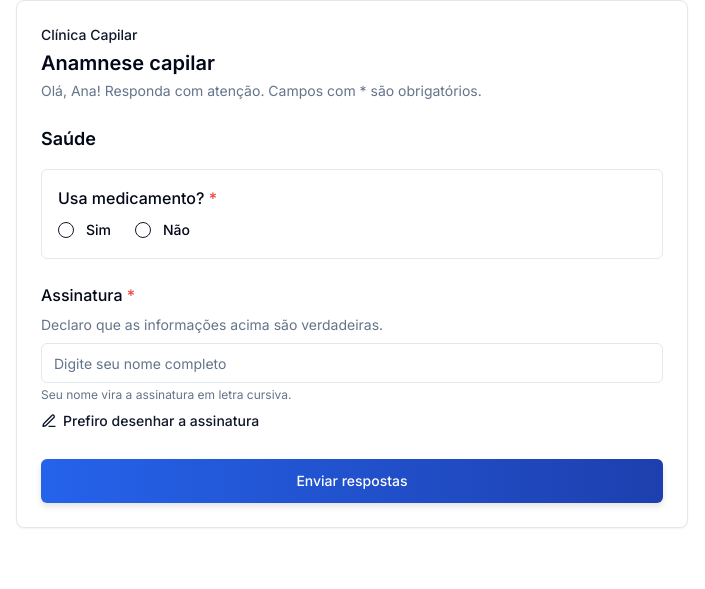
PublicPatientForm › exige resposta obrigatória e assinatura antes de enviar
Expected: the heading "Anamnese capilar" is shown, [41,51,215,75]
Expected: the text "Clínica Capilar" is shown, [41,26,138,43]
Click the button "Enviar respostas": coordinates (352, 481) [41,459,663,503]
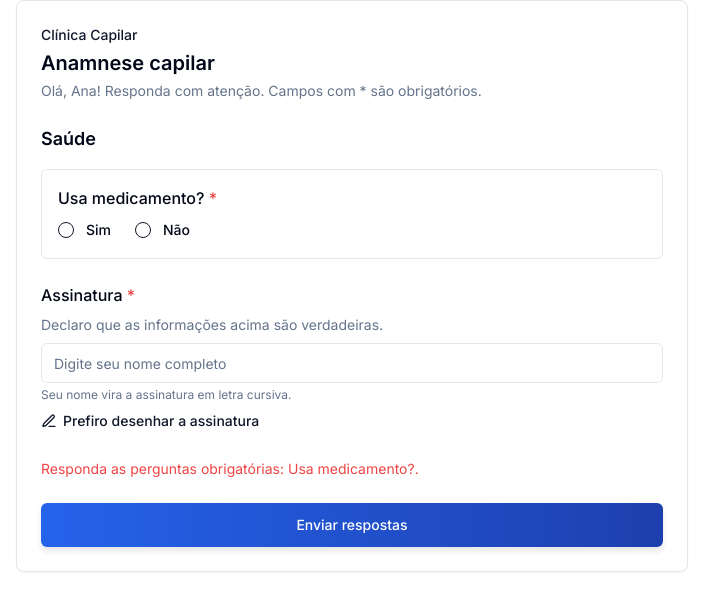
Expected: the text "Responda as perguntas obrigatórias: Usa medicamento?." is shown, [41,460,419,477]
Click the radio button named "Sim" next to "Sim": coordinates (66, 230) [58,222,74,238]
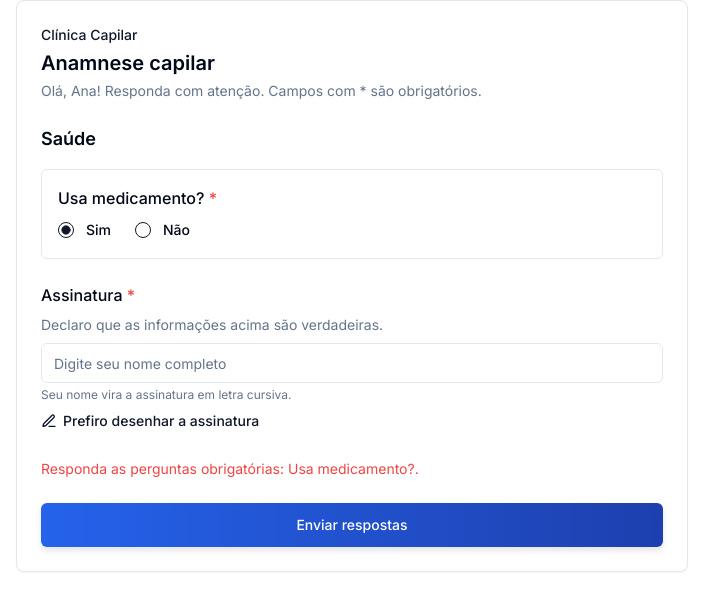
Click the button "Enviar respostas": coordinates (352, 525) [41,503,663,547]
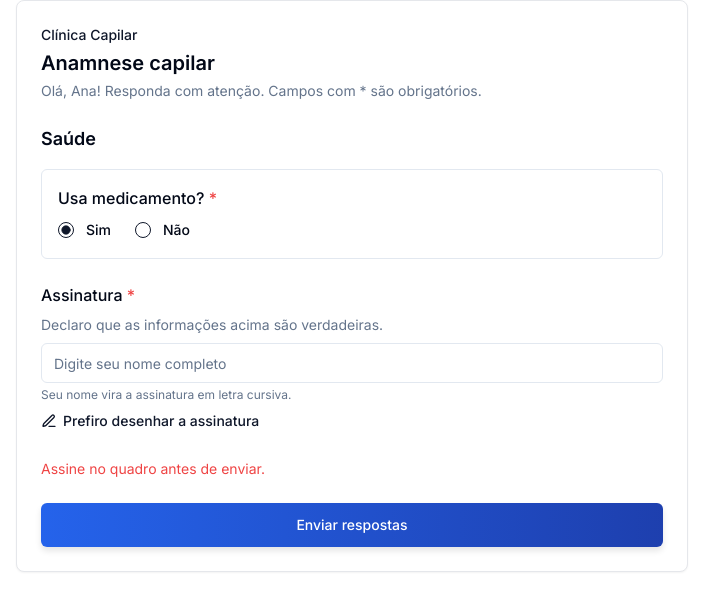
Expected: the text "Assine no quadro antes de enviar." is shown, [41,460,265,477]
